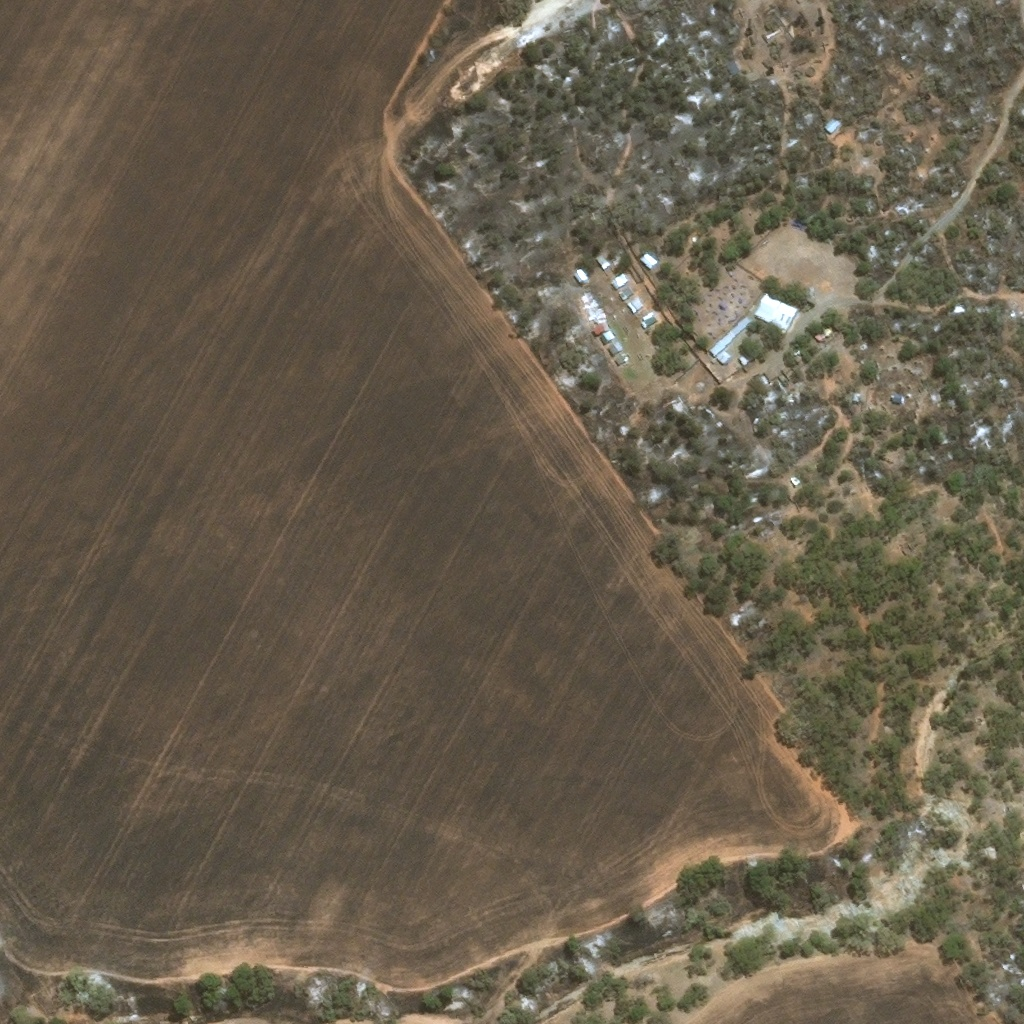0 no-damage: (753, 290, 798, 331), (708, 313, 750, 356), (724, 56, 742, 79), (812, 322, 832, 341), (639, 249, 658, 268), (610, 269, 629, 288), (821, 115, 841, 133), (626, 293, 644, 311), (572, 266, 588, 283), (618, 282, 634, 299), (639, 313, 657, 328), (607, 340, 622, 355), (600, 327, 615, 342), (716, 349, 731, 362), (615, 352, 629, 365), (890, 391, 904, 404), (596, 253, 607, 269), (787, 473, 800, 486), (593, 321, 607, 333), (737, 352, 749, 364)
3 destroyed: (669, 394, 688, 414), (580, 300, 595, 312), (577, 290, 590, 302), (585, 308, 598, 319), (748, 417, 758, 426), (597, 315, 603, 322)
4 un-classified: (761, 366, 778, 382), (790, 216, 805, 229)
